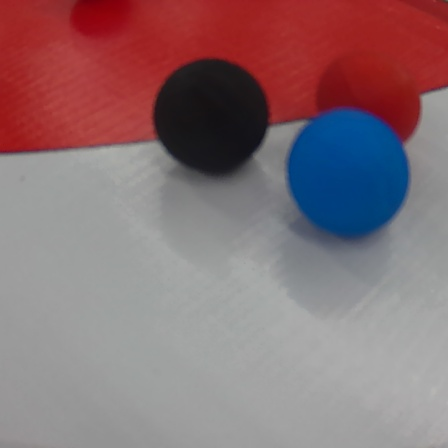black: (152, 55, 272, 176)
blue: (288, 111, 412, 236)
red: (317, 52, 423, 145)
red_base: (0, 0, 446, 150)
